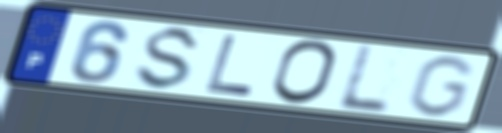6: (67, 18, 131, 85)
G: (404, 54, 479, 119)
L: (334, 44, 392, 115), (202, 33, 256, 99)
O: (268, 37, 340, 107)
S: (131, 25, 206, 93)
